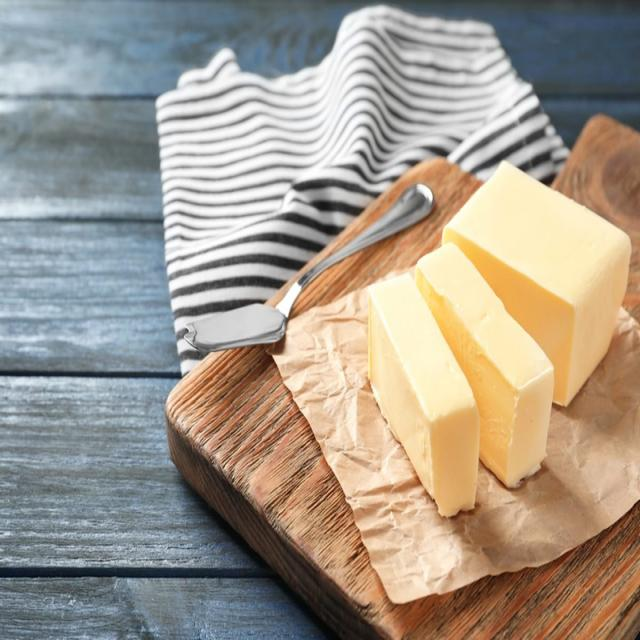Butter: (368, 243, 554, 508), (443, 162, 633, 410)
